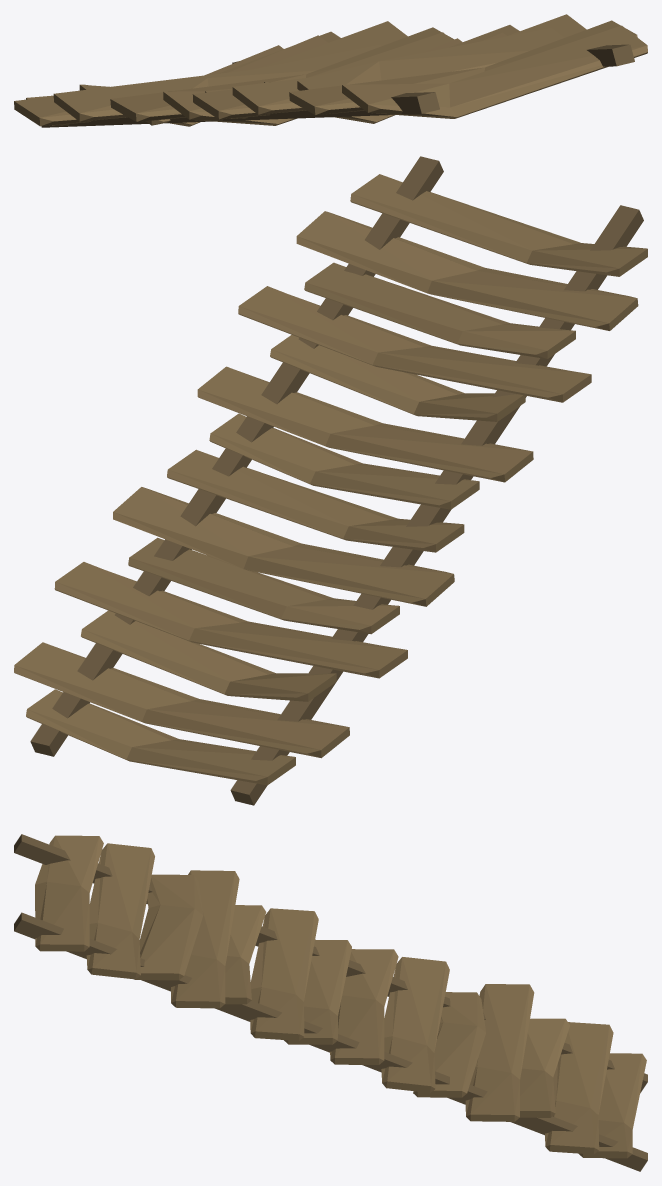
The model's file is SM_Bld_Rickety_Dock_Stairs_02.glb.
The picture shows the model from 3 angles, top to bottom: view 1: azimuth 30°, elevation 25°; view 2: azimuth 150°, elevation 25°; view 3: azimuth 270°, elevation 25°; orthographic projection. The views are drawn at different scales.
Visible parts, largest first — view 1: SM_Bld_Rickety_Dock_Stairs_02_part00; view 2: SM_Bld_Rickety_Dock_Stairs_02_part00; view 3: SM_Bld_Rickety_Dock_Stairs_02_part00.
Boxes of the visible parts, box(x1,y1,x2,y2) form: SM_Bld_Rickety_Dock_Stairs_02_part00: box(14, 14, 647, 127); SM_Bld_Rickety_Dock_Stairs_02_part00: box(14, 156, 647, 805); SM_Bld_Rickety_Dock_Stairs_02_part00: box(14, 834, 647, 1171).
Size of the model in its own units: 1.68 by 1.5 by 3.43.
Materials: 1 (1 with a texture image).
